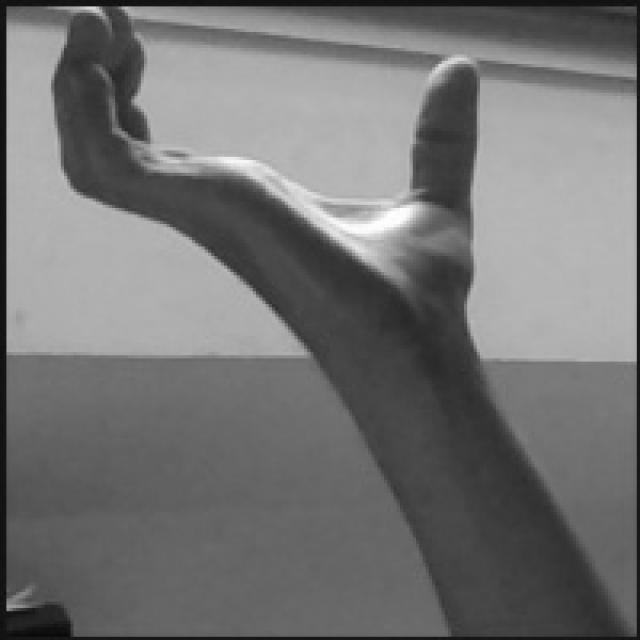space: (51, 5, 492, 324)
